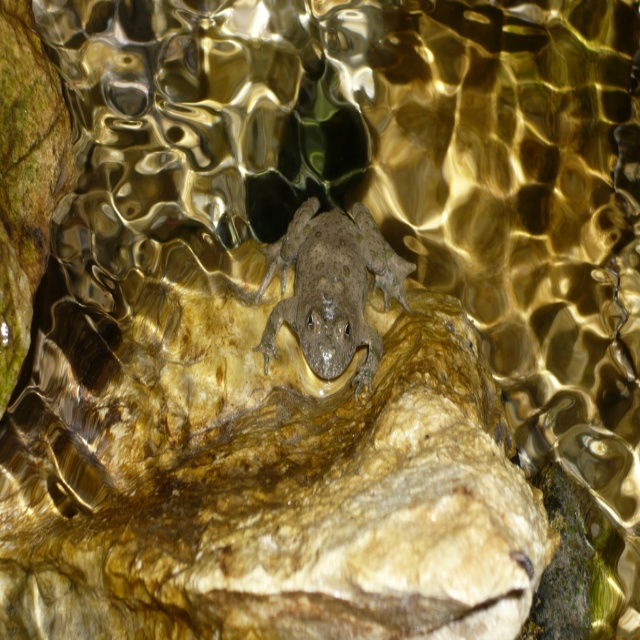Frog: (253, 196, 416, 401)
